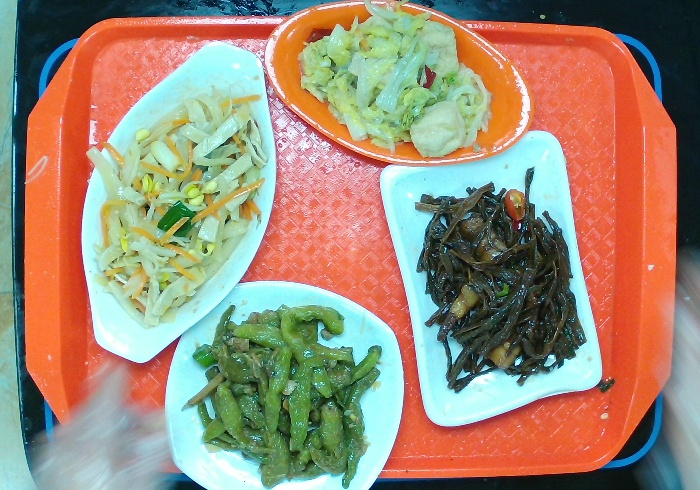RJxy-Ju_Huang_Tuo_Yuan: (263, 1, 535, 166)
RJxy-Si_Fang_Ao_Bian_Wan: (381, 128, 604, 429)
RJxy-Si_Fang_Die: (163, 274, 411, 490)
RJxy-Yu_Pan: (85, 40, 281, 366)
